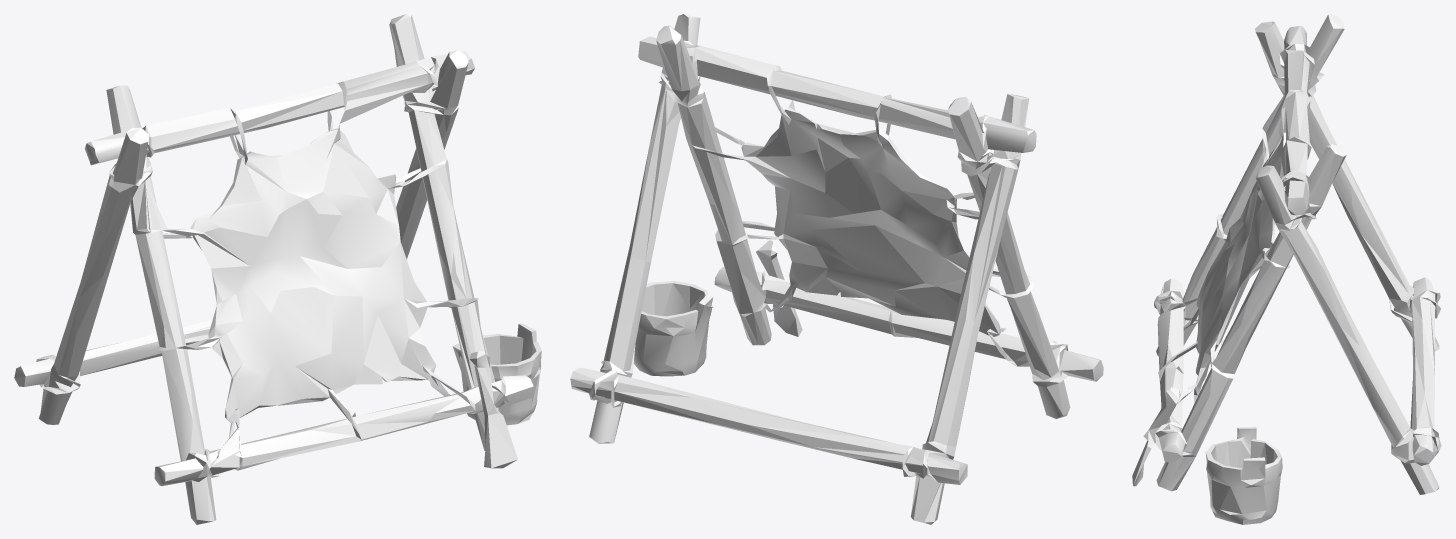
Rendered from hide_frame.glb.
3 views of the same model, side by side, from view 1: azimuth 30°, elevation 25°; view 2: azimuth 150°, elevation 25°; view 3: azimuth 270°, elevation 25° (orthographic). The views are drawn at different scales.
Parts seen in each view (by area): view 1: hide_frame; view 2: hide_frame; view 3: hide_frame.
Boxes of the visible parts, left/top/right/bottom form: hide_frame: left=14, top=14, right=541, bottom=524; hide_frame: left=570, top=14, right=1103, bottom=524; hide_frame: left=1132, top=14, right=1441, bottom=524.
Bounding box in the file's own units: 2.81 × 2.4 × 1.94.
Materials: 1 (1 with a texture image).
